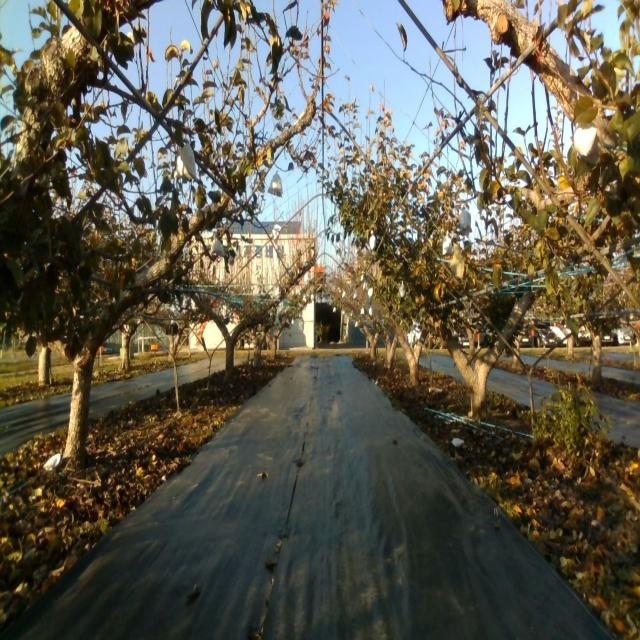pearbags: (573, 120, 598, 156), (174, 144, 196, 180), (268, 170, 284, 196), (459, 210, 471, 237), (209, 238, 224, 256), (270, 222, 282, 244), (442, 235, 453, 257)
